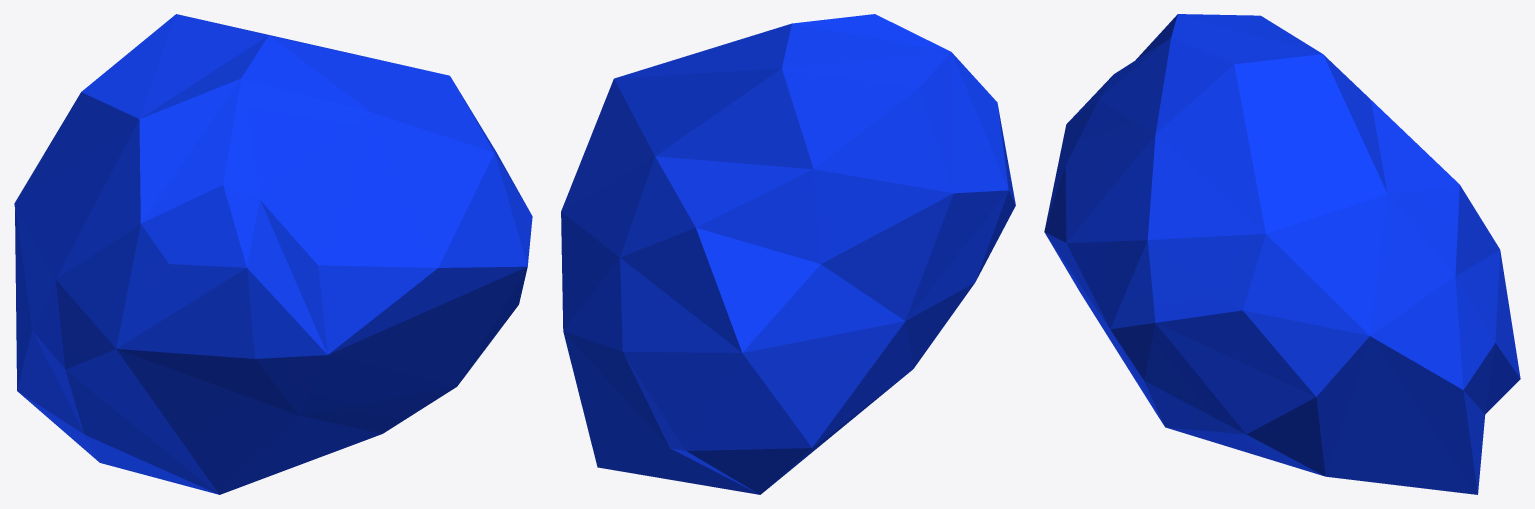
Rendered from SM_emissive_rock_13.fbx.
The picture shows the model from 3 angles, left to right: view 1: azimuth 30°, elevation 25°; view 2: azimuth 150°, elevation 25°; view 3: azimuth 270°, elevation 25°; orthographic projection. The views are drawn at different scales.
Parts seen in each view (by area): view 1: emissive_rock_13; view 2: emissive_rock_13; view 3: emissive_rock_13.
Boxes of the visible parts, x1,y1,x2,y2 form: emissive_rock_13: (14,14,532,494); emissive_rock_13: (561,14,1015,494); emissive_rock_13: (1044,14,1520,494).
Size of the model in its own units: 155 by 152 by 160.
